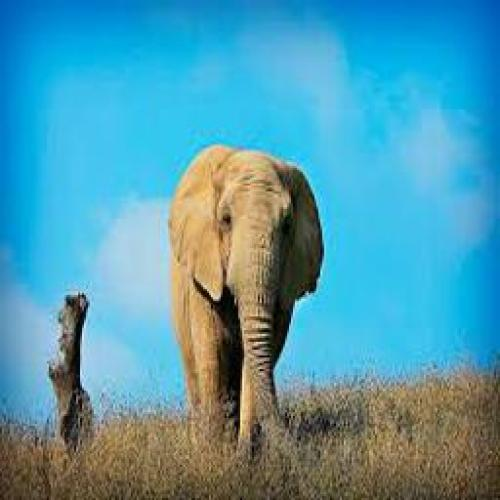african_elephant-endangered: (159, 138, 330, 471)
